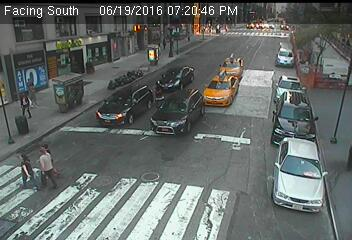neg: (232, 93, 264, 135), (146, 71, 171, 105), (305, 160, 324, 186), (314, 28, 331, 51), (238, 159, 255, 181), (166, 78, 182, 99), (165, 133, 181, 154), (128, 44, 142, 63), (283, 107, 297, 125), (220, 12, 232, 29), (253, 14, 265, 30), (279, 19, 291, 34), (130, 157, 140, 171)
pos: (25, 138, 61, 186), (10, 151, 37, 187), (9, 91, 33, 123), (20, 76, 41, 104)
